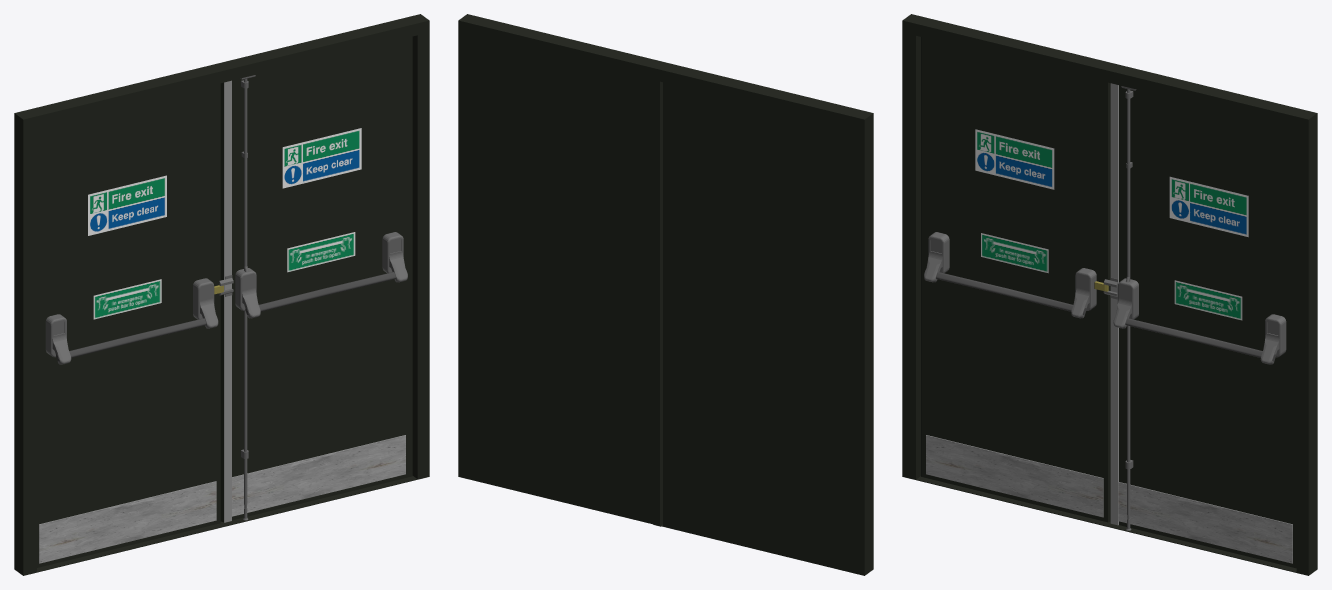
The model's file is door_fire.glb.
3 renders of one model, left to right at view 1: azimuth 30°, elevation 25°; view 2: azimuth 150°, elevation 25°; view 3: azimuth 330°, elevation 25°, orthographic.
Visible parts, largest first — view 1: Object_15, Object_11, Object_4, Object_8, Object_16, Object_13, Object_6; view 2: Object_15; view 3: Object_15, Object_11, Object_4, Object_8, Object_16, Object_13, Object_6.
Part boxes in pixels (bbox=[...]): Object_15: bbox=[14, 14, 429, 575]; Object_11: bbox=[39, 435, 405, 563]; Object_4: bbox=[88, 128, 361, 235]; Object_8: bbox=[45, 75, 407, 520]; Object_16: bbox=[224, 80, 231, 522]; Object_13: bbox=[93, 232, 355, 319]; Object_6: bbox=[56, 270, 407, 361]; Object_15: bbox=[458, 14, 873, 575]; Object_15: bbox=[902, 14, 1317, 575]; Object_11: bbox=[926, 435, 1292, 563]; Object_4: bbox=[975, 129, 1248, 237]; Object_8: bbox=[924, 86, 1286, 530]; Object_16: bbox=[1110, 83, 1118, 525]; Object_13: bbox=[981, 233, 1242, 320]; Object_6: bbox=[924, 270, 1275, 361].
Size of the model in its own units: 2.62 by 2.82 by 0.1968.
Materials: 8 (3 with a texture image).
